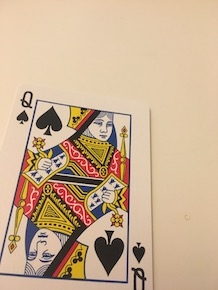QueenOfSpades: (1, 78, 158, 290)
